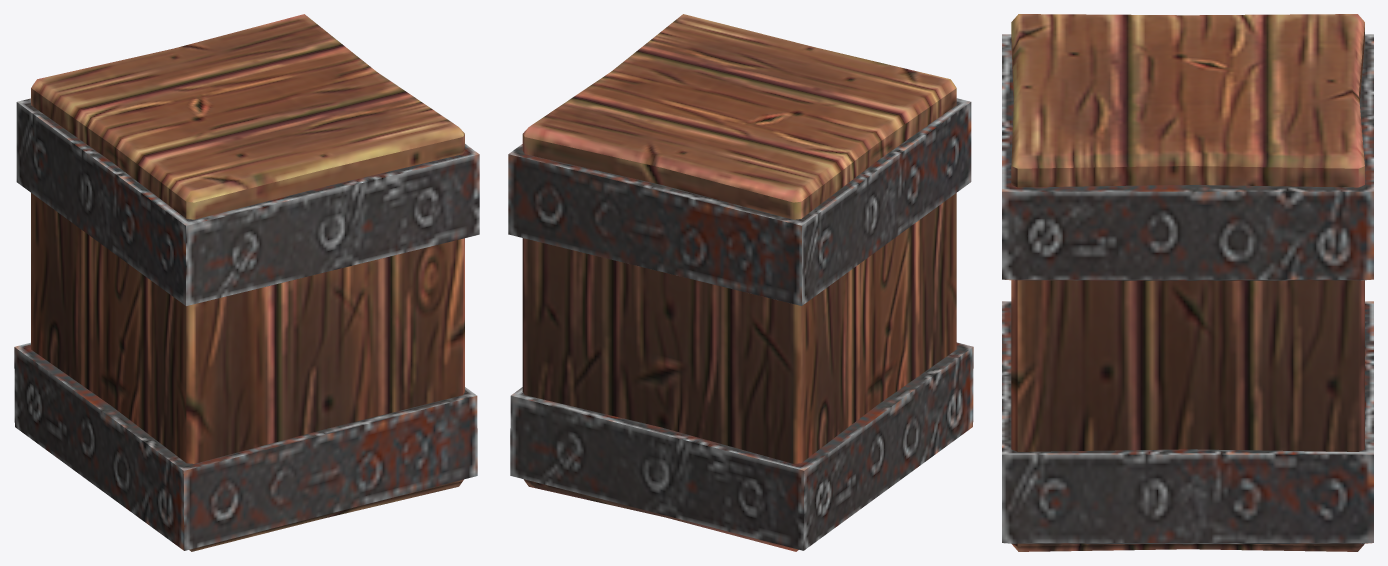
Rendered from prefab_smallcrate02_color01.gltf.
The picture shows the model from 3 angles, left to right: view 1: azimuth 30°, elevation 25°; view 2: azimuth 150°, elevation 25°; view 3: azimuth 270°, elevation 25°; orthographic projection. The views are drawn at different scales.
Parts seen in each view (by area): view 1: Mod_SmallCrate02; view 2: Mod_SmallCrate02; view 3: Mod_SmallCrate02.
Part boxes in pixels (bbox=[...]): Mod_SmallCrate02: bbox=[14, 14, 479, 551]; Mod_SmallCrate02: bbox=[508, 14, 973, 551]; Mod_SmallCrate02: bbox=[1002, 14, 1373, 551].
Bounding box in the file's own units: 1.09 × 1.26 × 1.08.
Materials: 1 (1 with a texture image).
